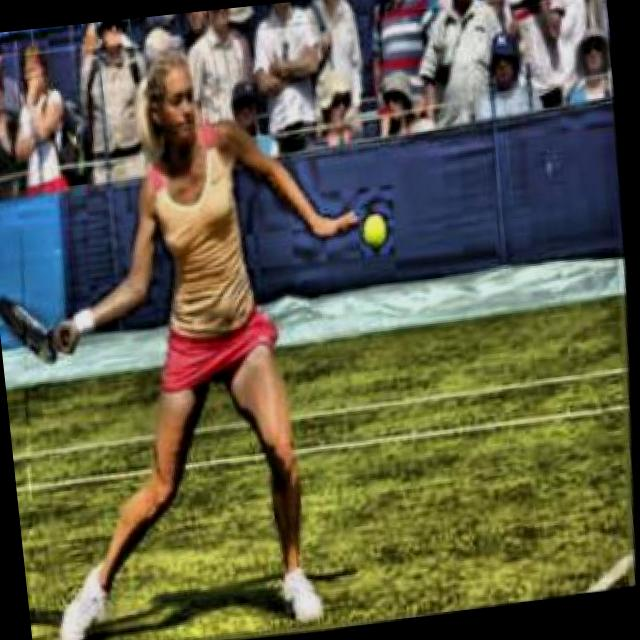tennis-ball: (362, 216, 388, 250)
